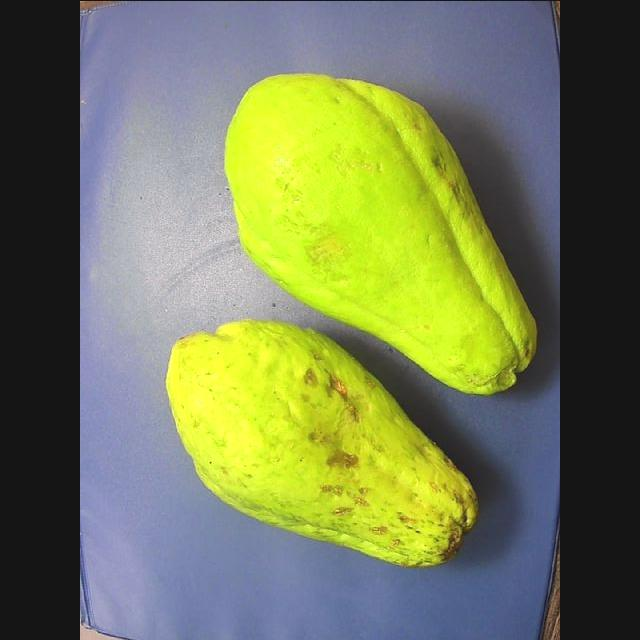chayote: (227, 73, 535, 393), (165, 318, 476, 567)
